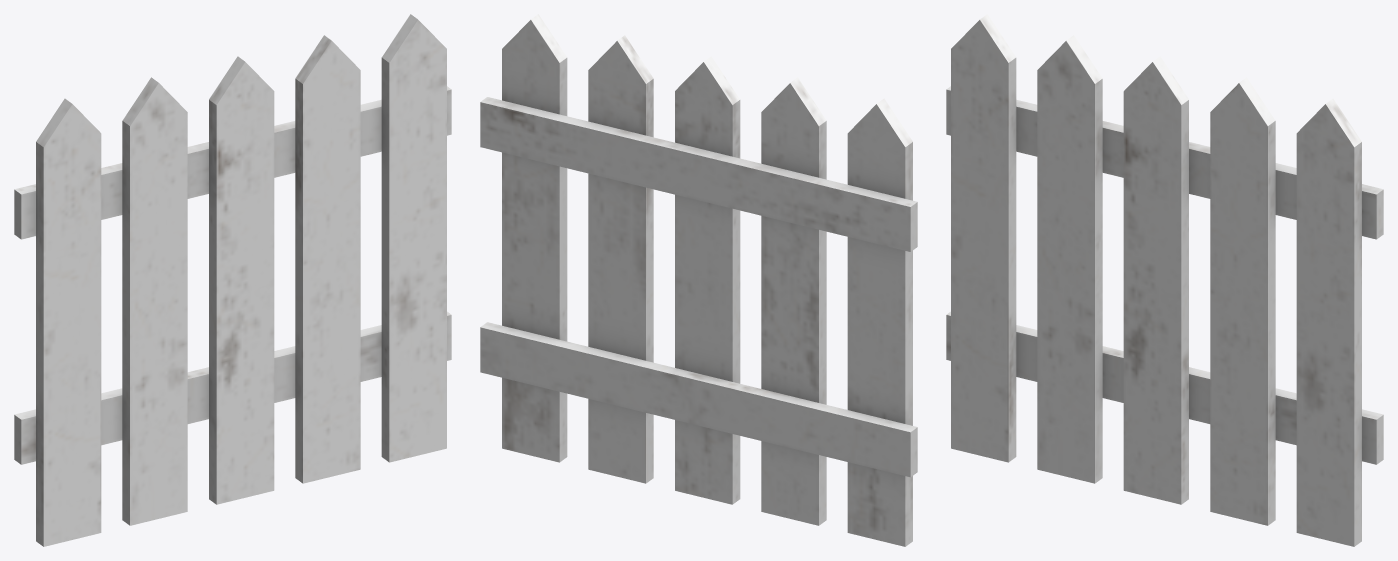
Rendered from sb_obj_ModernCity096_fence_w.fbx.
3 views of the same model, side by side, from view 1: azimuth 30°, elevation 25°; view 2: azimuth 150°, elevation 25°; view 3: azimuth 330°, elevation 25° (orthographic).
Parts seen in each view (by area): view 1: sb_obj_ModernCity096_fence_w; view 2: sb_obj_ModernCity096_fence_w; view 3: sb_obj_ModernCity096_fence_w.
Part boxes in pixels (bbox=[...]): sb_obj_ModernCity096_fence_w: bbox=[14, 14, 451, 546]; sb_obj_ModernCity096_fence_w: bbox=[480, 14, 917, 546]; sb_obj_ModernCity096_fence_w: bbox=[946, 14, 1383, 546].
Bounding box in the file's own units: 0.9998 × 0.9677 × 0.0642.
